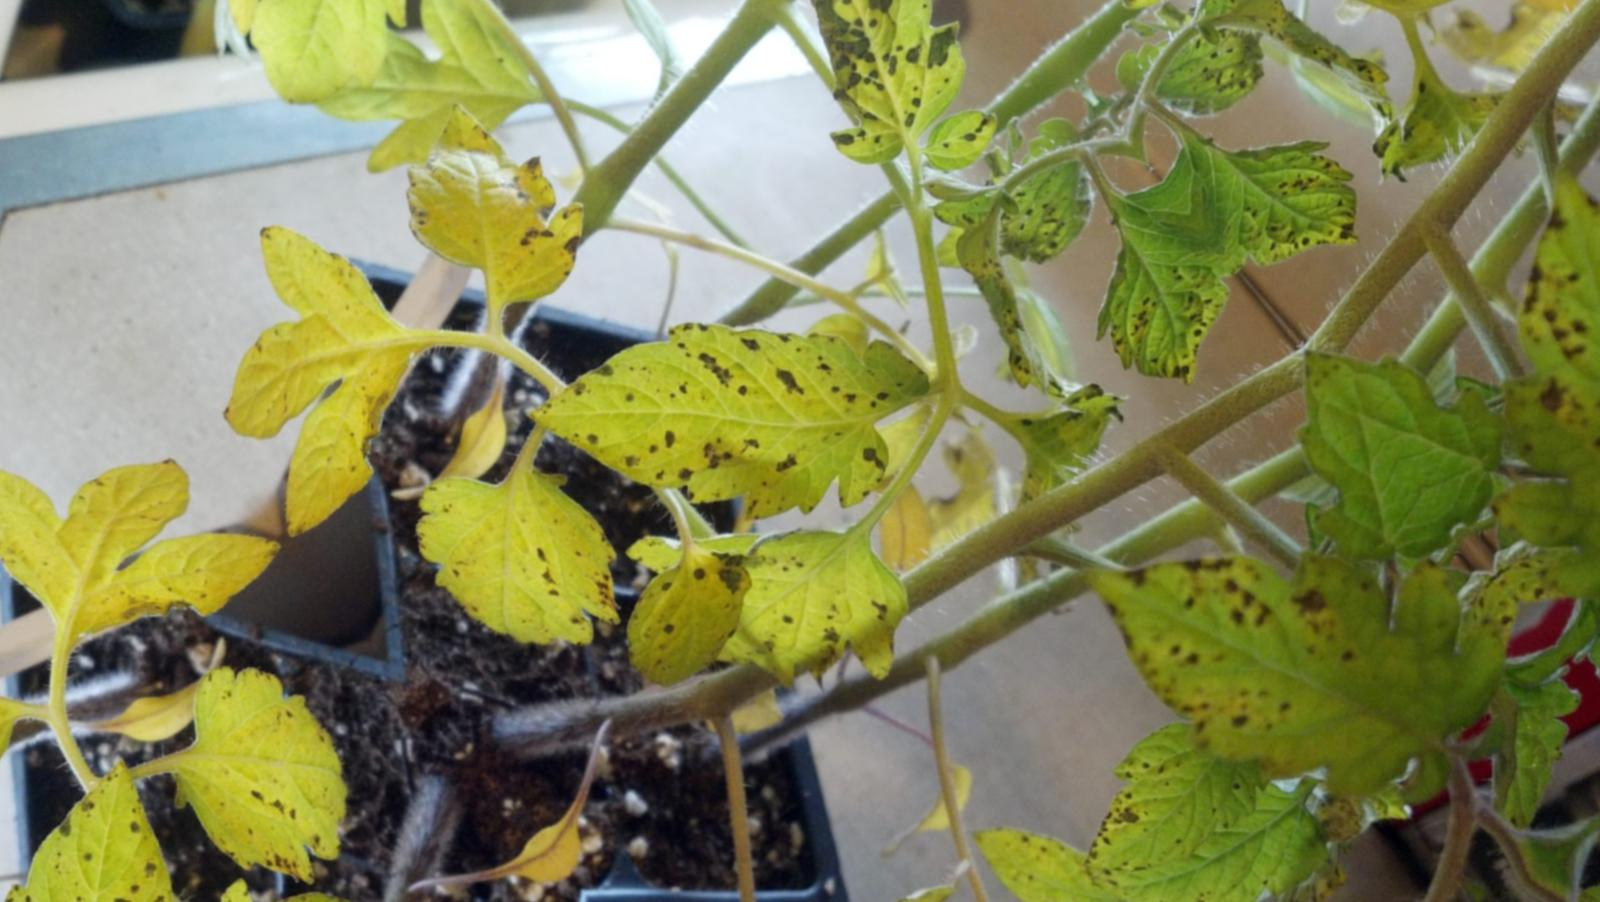Tomato Septoria leaf spot: (1056, 389, 1551, 894), (501, 185, 958, 633), (1020, 647, 1411, 902), (378, 397, 678, 703), (676, 470, 970, 767), (1029, 155, 1275, 412), (710, 0, 1021, 200)
